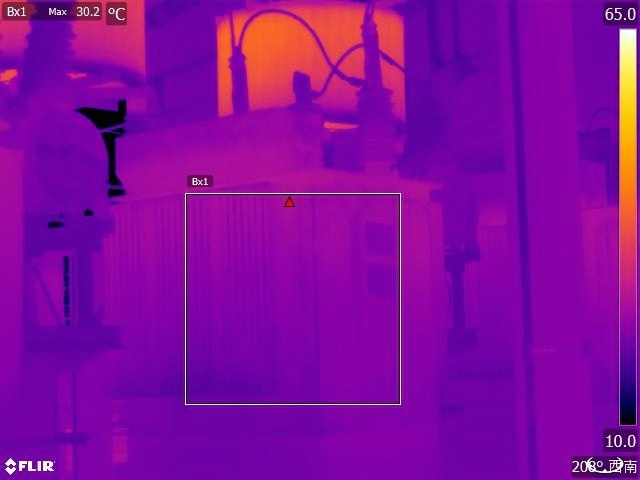capacitor: (204, 1, 415, 129), (1, 1, 159, 113)
tube: (346, 77, 406, 173), (19, 1, 77, 97)
